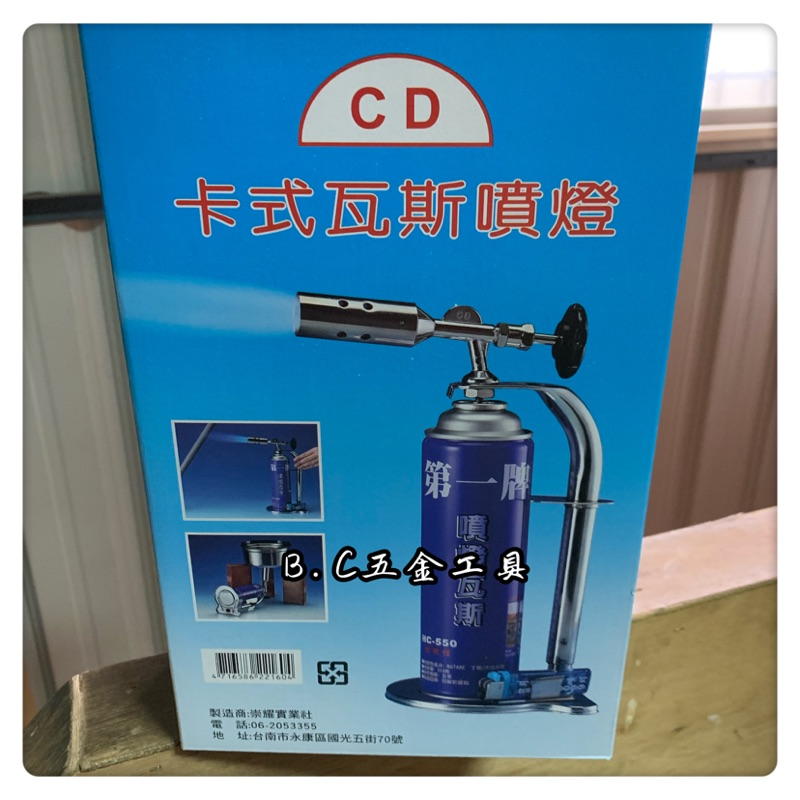gastorch: (292, 283, 612, 715), (244, 436, 311, 520), (212, 568, 284, 613)
